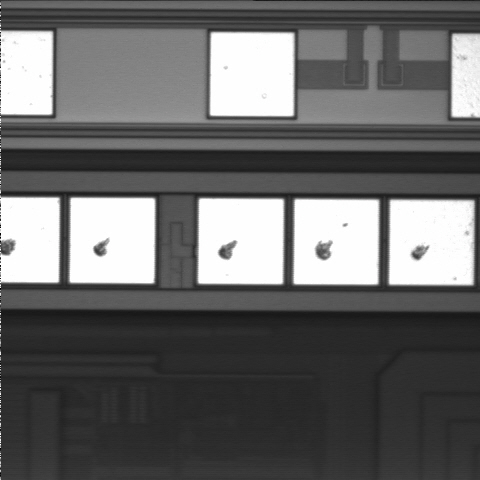pad: (198, 199, 284, 284), (70, 198, 155, 283), (294, 199, 379, 284), (389, 200, 474, 285), (210, 33, 294, 116)
